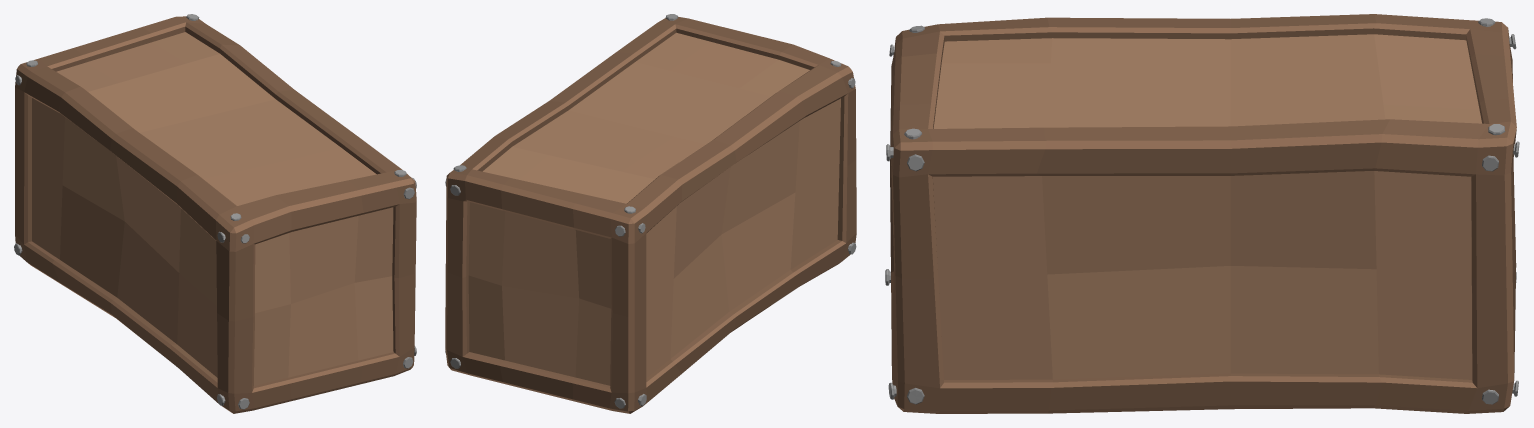
The model's file is Crate2.fbx.
The picture shows the model from 3 angles, left to right: view 1: azimuth 30°, elevation 25°; view 2: azimuth 150°, elevation 25°; view 3: azimuth 270°, elevation 25°; orthographic projection. The views are drawn at different scales.
Visible parts, largest first — view 1: Crate2; view 2: Crate2; view 3: Crate2.
Part boxes in pixels (x1,y1,x2,y2): Crate2: (14, 14, 416, 413); Crate2: (445, 14, 856, 413); Crate2: (885, 14, 1519, 413).
Bounding box in the file's own units: 71.1 × 70.88 × 142.
